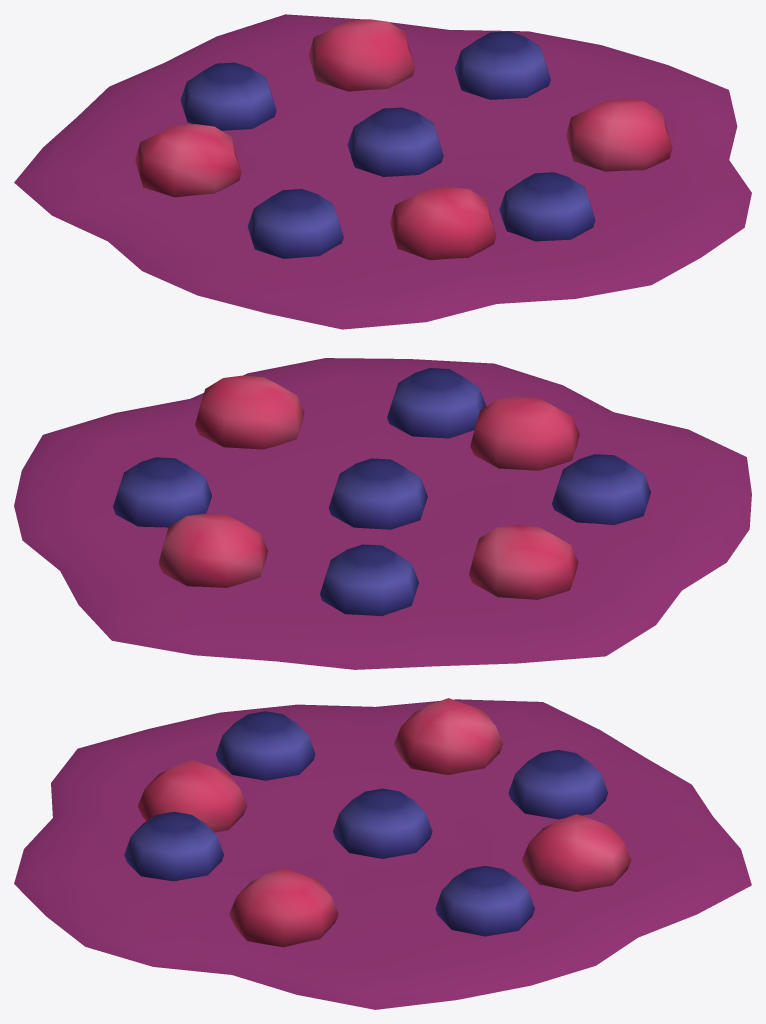
File: berries.glb
3 renders of one model, top to bottom at view 1: azimuth 30°, elevation 25°; view 2: azimuth 150°, elevation 25°; view 3: azimuth 270°, elevation 25°, orthographic. The views are drawn at different scales.
Visible parts, largest first — view 1: body; view 2: body; view 3: body.
Part boxes in pixels (<box>): body: <box>14,14,751,329</box>; body: <box>14,358,751,669</box>; body: <box>14,698,751,1009</box>.
Bounding box in the file's own units: 0.8839 × 0.1 × 0.8876.
